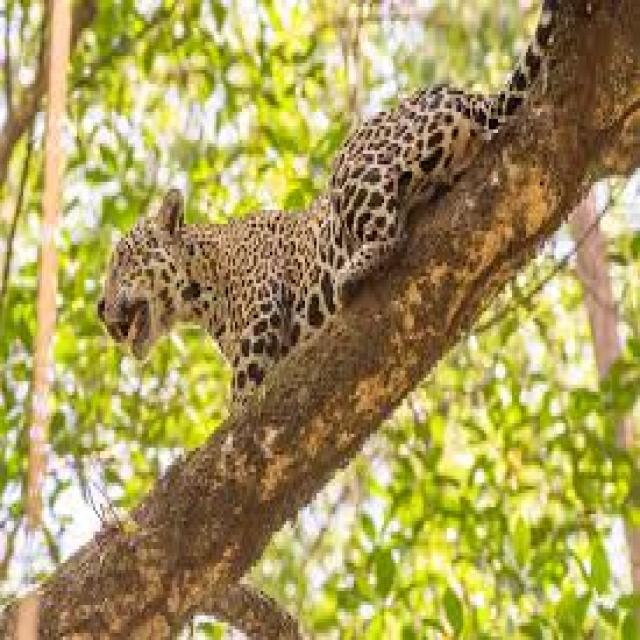Jaguar: (100, 136, 486, 388)
